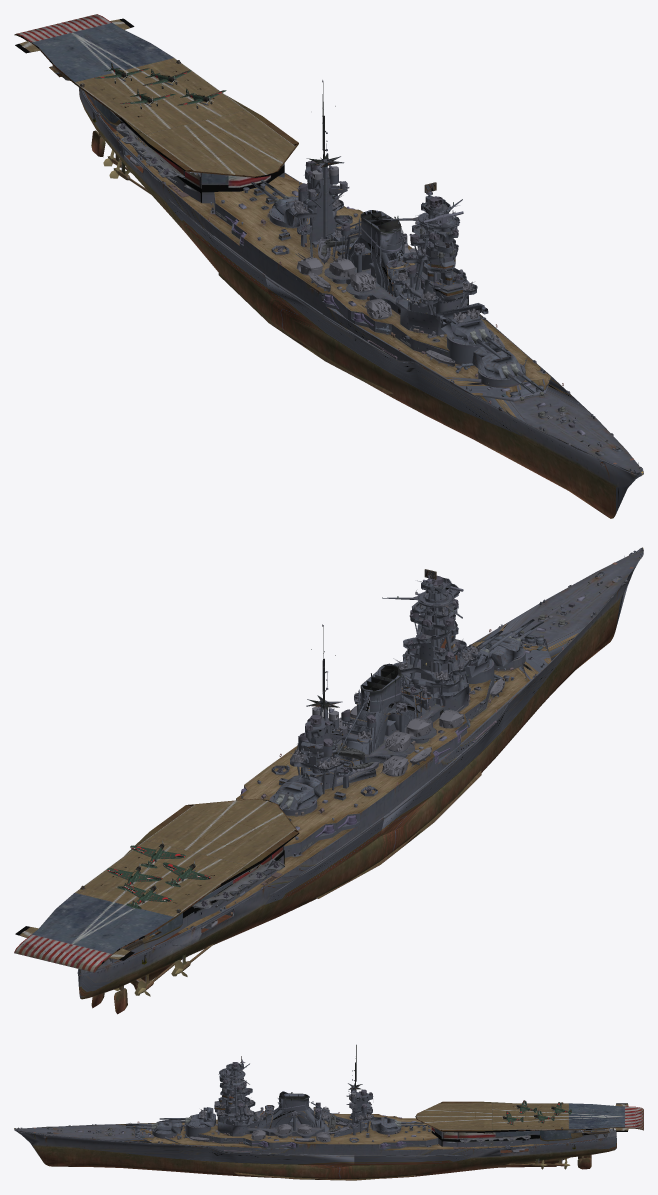
Rendered from ship.glb.
3 renders of one model, top to bottom at view 1: azimuth 30°, elevation 25°; view 2: azimuth 150°, elevation 25°; view 3: azimuth 270°, elevation 25°, orthographic. The views are drawn at different scales.
Parts seen in each view (by area): view 1: object 1, object 4, object 2, object 3, K_HP_JGM_2__0, K_HP_JGM_1__0, object 10, K_HP_JGM_5__0, object 8; view 2: object 1, object 2, object 4, object 3, object 10, K_HP_JGM_5__0, K_HP_JGM_1__0, object 8, K_HP_JGM_2__0; view 3: object 1, object 2, object 4, object 3, K_HP_JGM_2__0, object 10, K_HP_JGM_5__0, K_HP_JGM_1__0, object 8, object 9.
Part boxes in pixels (box(x1,y1,x2,y2)): object 1: box(79, 82, 643, 518); object 4: box(14, 14, 462, 313); object 2: box(84, 91, 641, 472); object 3: box(92, 80, 643, 474); K_HP_JGM_2__0: box(435, 303, 512, 359); K_HP_JGM_1__0: box(472, 342, 543, 393); object 10: box(94, 63, 226, 109); K_HP_JGM_5__0: box(251, 179, 309, 226); object 8: box(74, 36, 196, 191); object 1: box(77, 547, 643, 1014); object 2: box(98, 551, 642, 968); object 4: box(14, 569, 461, 972); object 3: box(114, 548, 643, 996); object 10: box(107, 840, 211, 909); K_HP_JGM_5__0: box(271, 772, 322, 810); K_HP_JGM_1__0: box(477, 619, 543, 666); object 8: box(73, 858, 284, 938); K_HP_JGM_2__0: box(463, 630, 512, 677); object 1: box(14, 1045, 616, 1180); object 2: box(16, 1062, 605, 1152); object 4: box(215, 1056, 643, 1146); object 3: box(14, 1044, 575, 1169); K_HP_JGM_2__0: box(159, 1107, 216, 1127); object 10: box(502, 1100, 571, 1124); K_HP_JGM_5__0: box(370, 1116, 426, 1131); K_HP_JGM_1__0: box(126, 1119, 182, 1133); object 8: box(447, 1114, 615, 1142); object 9: box(443, 1128, 616, 1145).
Bounding box in the file's own units: 0.216 × 0.3885 × 1.8.
Materials: 9 (9 with a texture image).
